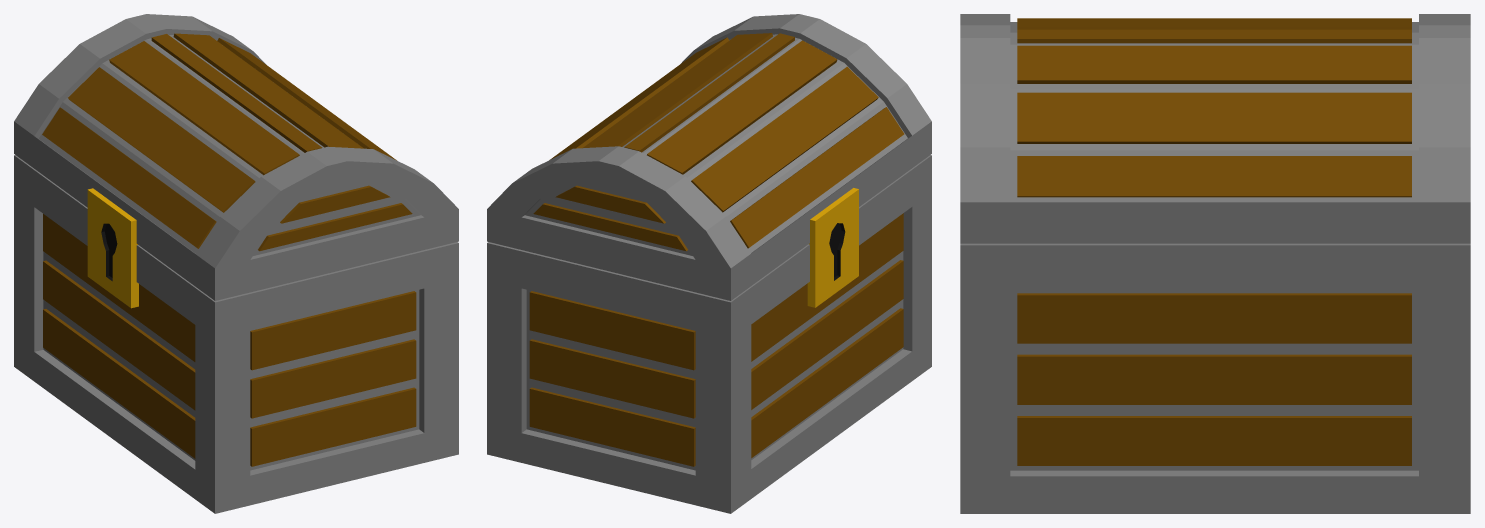
File: treasure.glb
The picture shows the model from 3 angles, left to right: view 1: azimuth 30°, elevation 25°; view 2: azimuth 150°, elevation 25°; view 3: azimuth 270°, elevation 25°; orthographic projection. The views are drawn at different scales.
Visible parts, largest first — view 1: Treasure, Treasure Wood, Treasure Keylock Border, Treasure Keylock; view 2: Treasure, Treasure Wood, Treasure Keylock Border, Treasure Keylock; view 3: Treasure, Treasure Wood.
Boxes of the visible parts, box(x1,y1,x2,y2) form: Treasure: box(14, 14, 458, 513); Treasure Wood: box(42, 33, 416, 466); Treasure Keylock Border: box(87, 188, 138, 308); Treasure Keylock: box(101, 223, 117, 281); Treasure: box(487, 14, 931, 513); Treasure Wood: box(529, 33, 904, 466); Treasure Keylock Border: box(807, 188, 858, 307); Treasure Keylock: box(829, 223, 845, 280); Treasure: box(960, 14, 1470, 513); Treasure Wood: box(1017, 18, 1411, 465).
Size of the model in its own units: 1.43 by 1.76 by 2.
